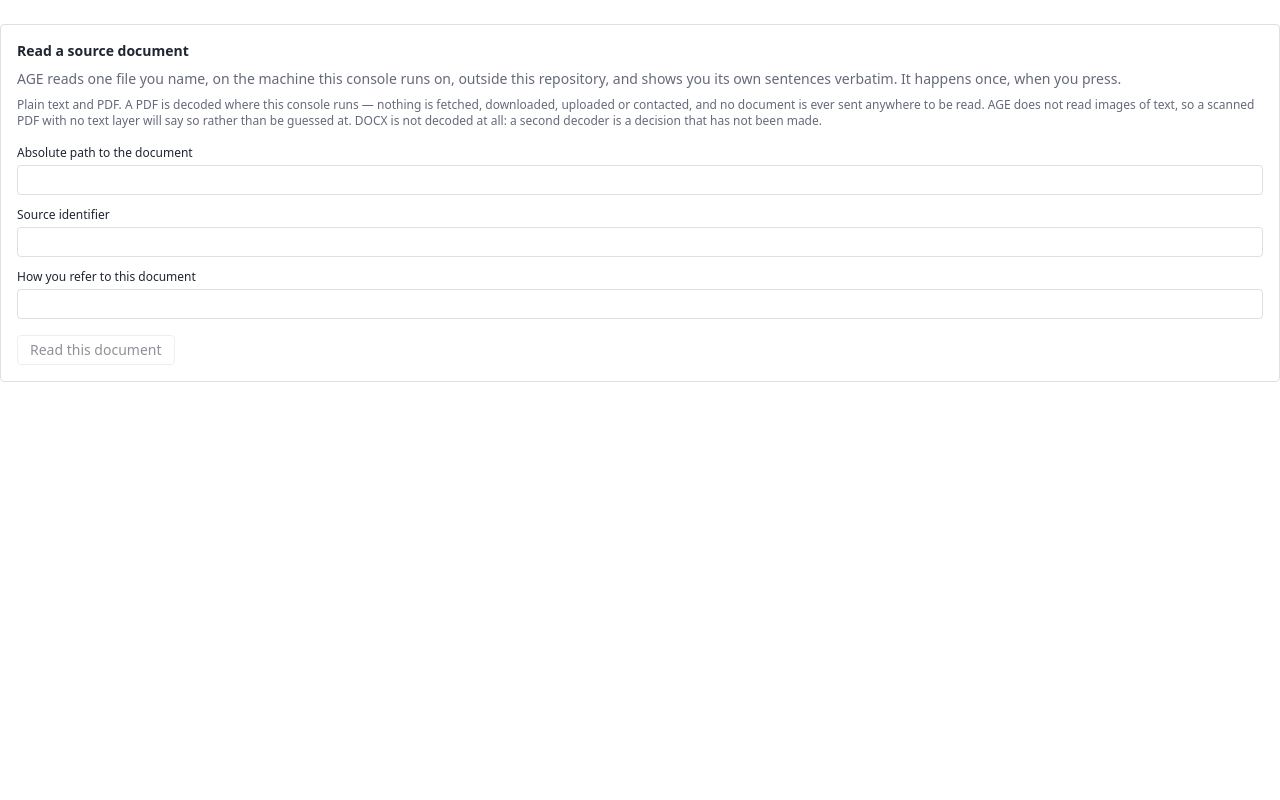
SourcesPanel › says where the confirmation went, in the outcome own words, and never that it was saved to AGE
Type "E:/fictional-operator-files/brief.txt" into the field labelled "Absolute path to the document" at (640, 180), box [17,165,1263,195]
Type "src-fictional-brief" into the field labelled "Source identifier" at (640, 242), box [17,227,1263,257]
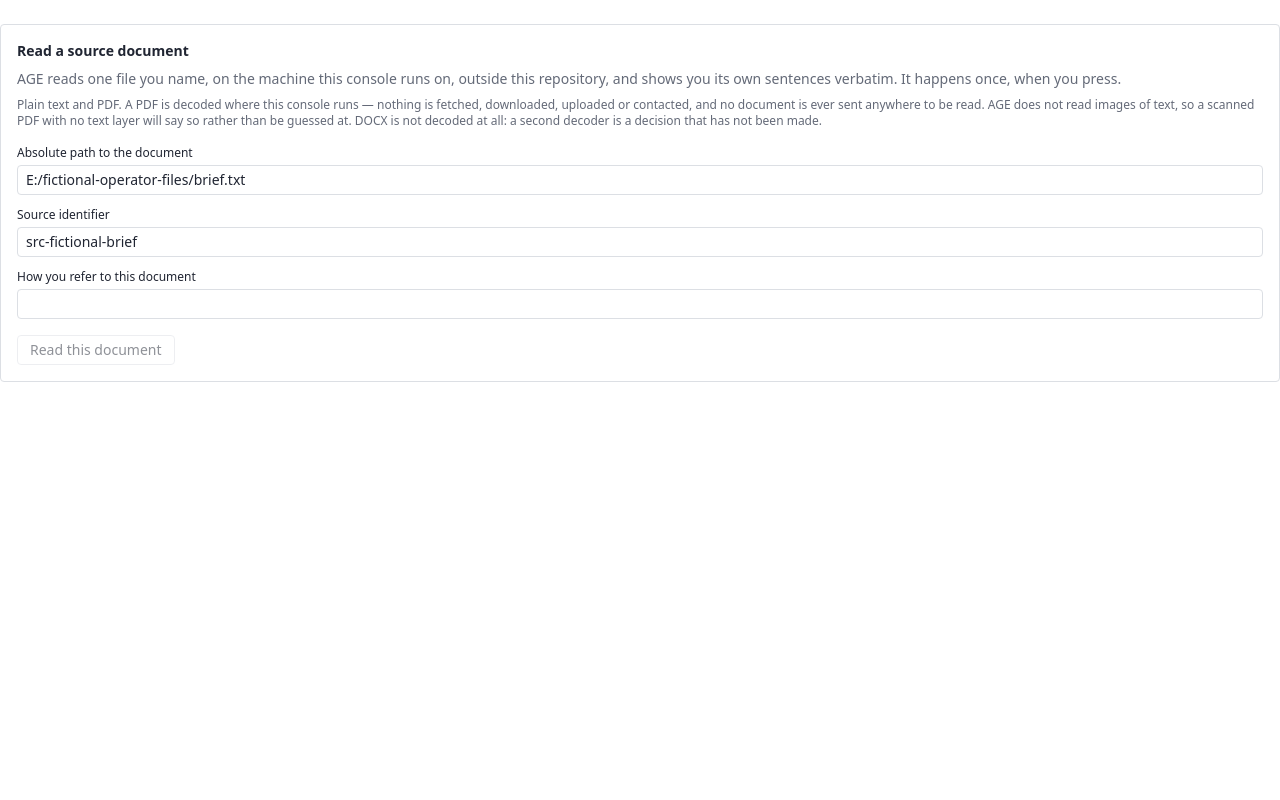
Type "Fictional Kite Repairs brief" into the field labelled "How you refer to this document" at (640, 304), box [17,289,1263,319]
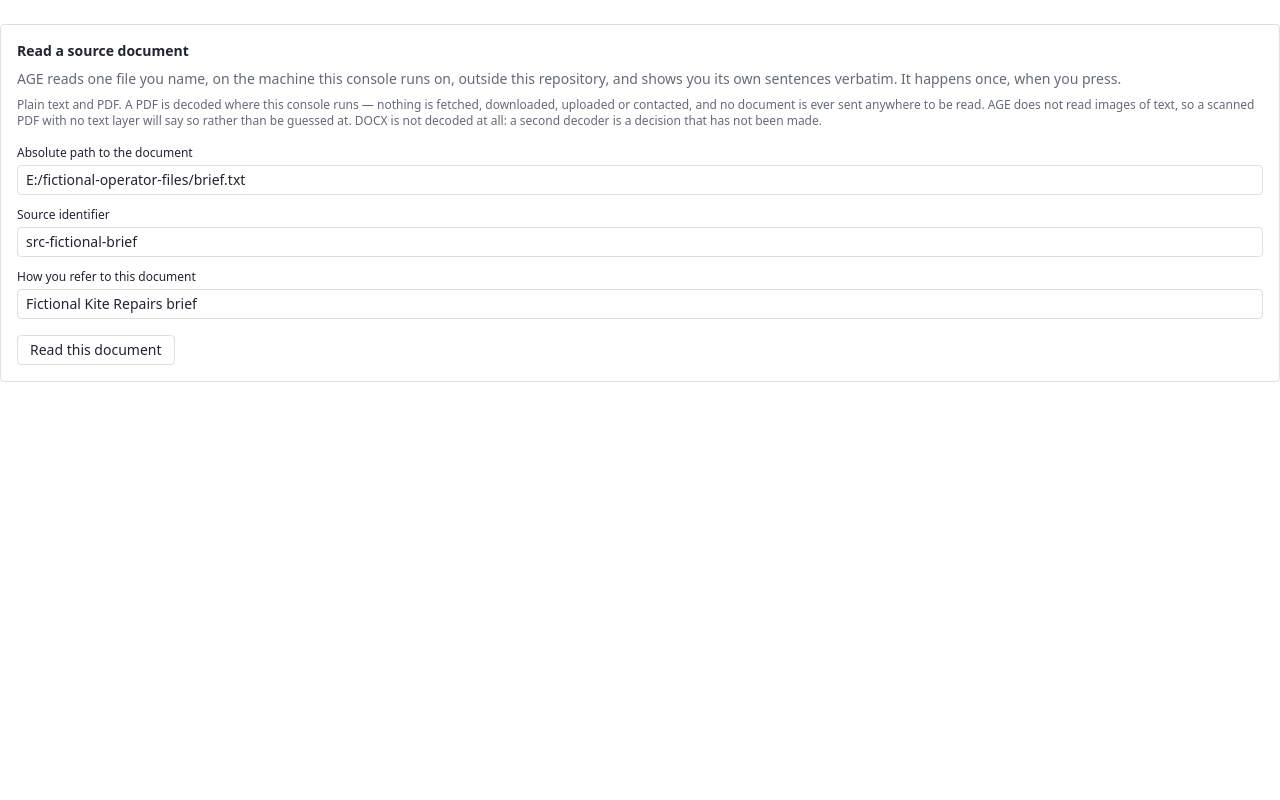
Click the button "Read this document" at (96, 350), box [17,335,174,365]
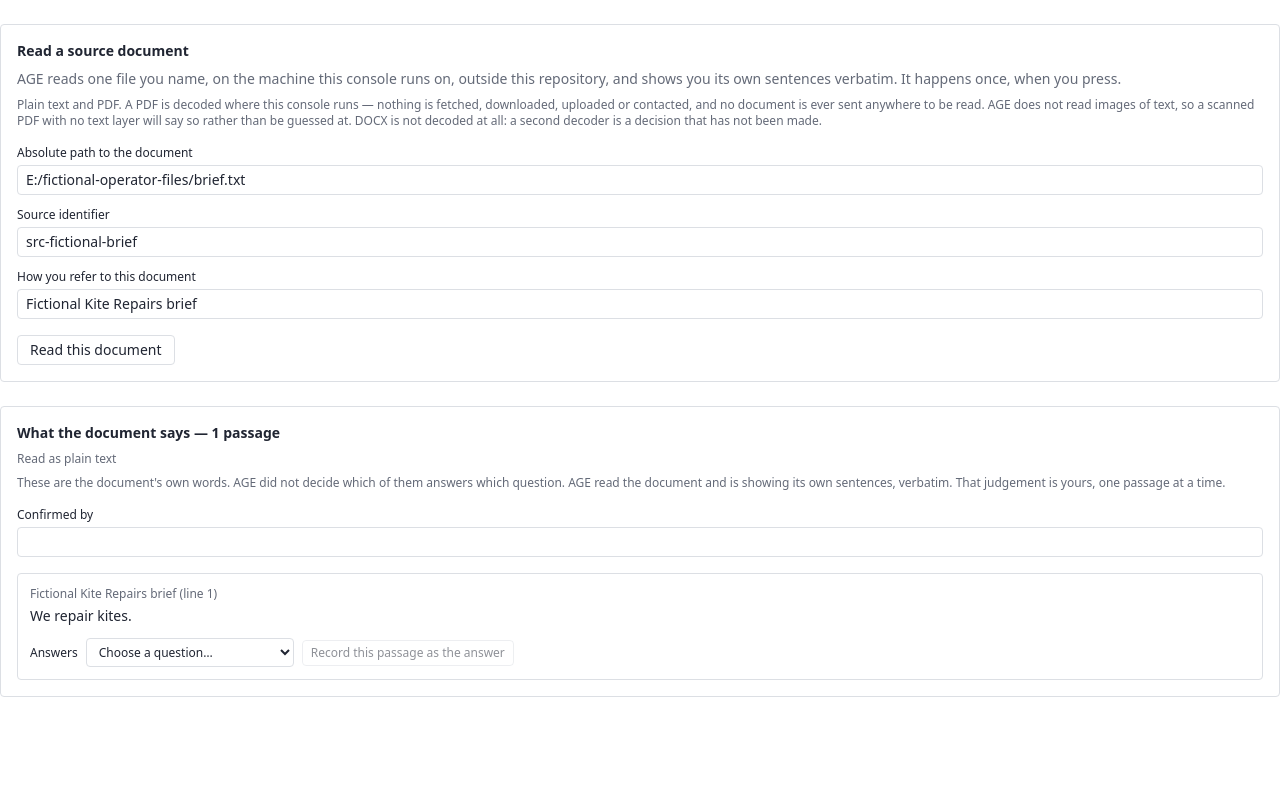
Expected: the text "We repair kites." is shown, [30,606,132,625]
Type "operator:fictional" into the field labelled "Confirmed by" at (640, 542), box [17,527,1263,557]
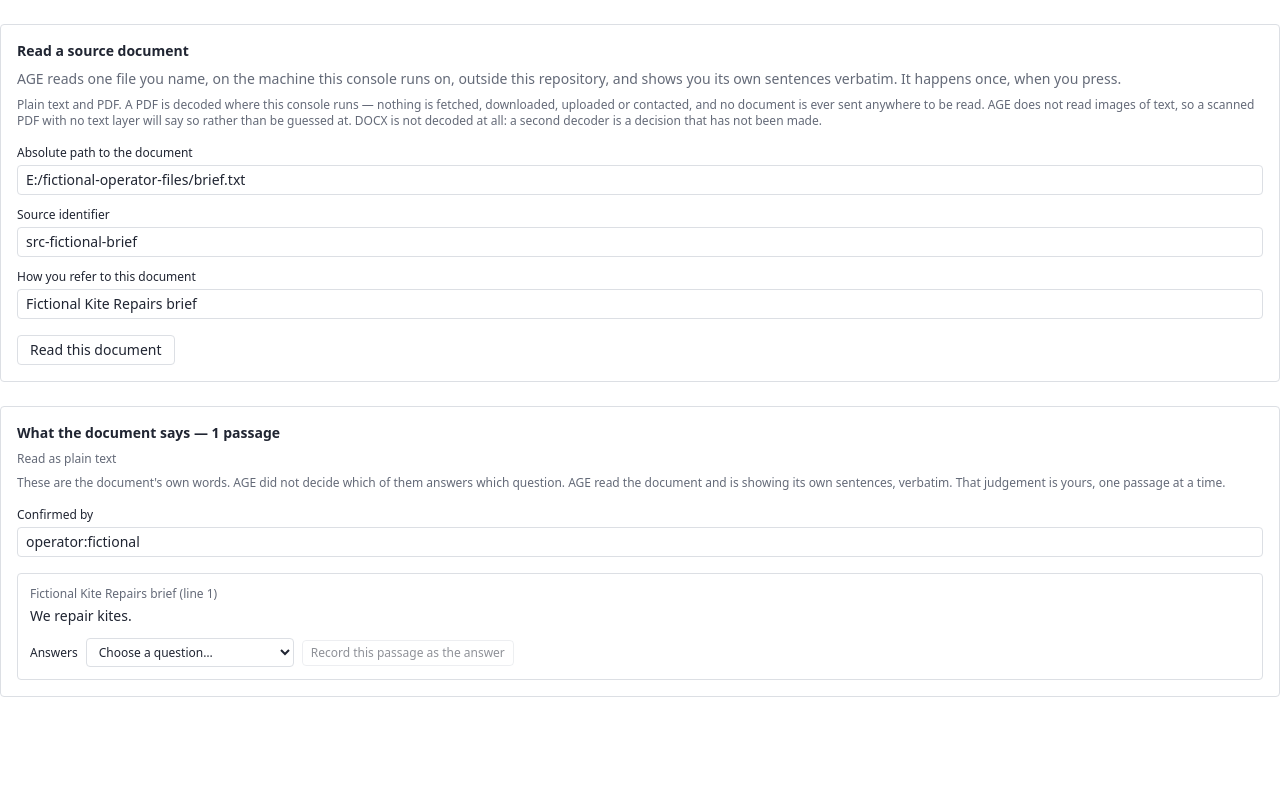
Select "What does the business offer?" in the dropdown labelled "Answers" at (190, 652), box [86,638,294,667]
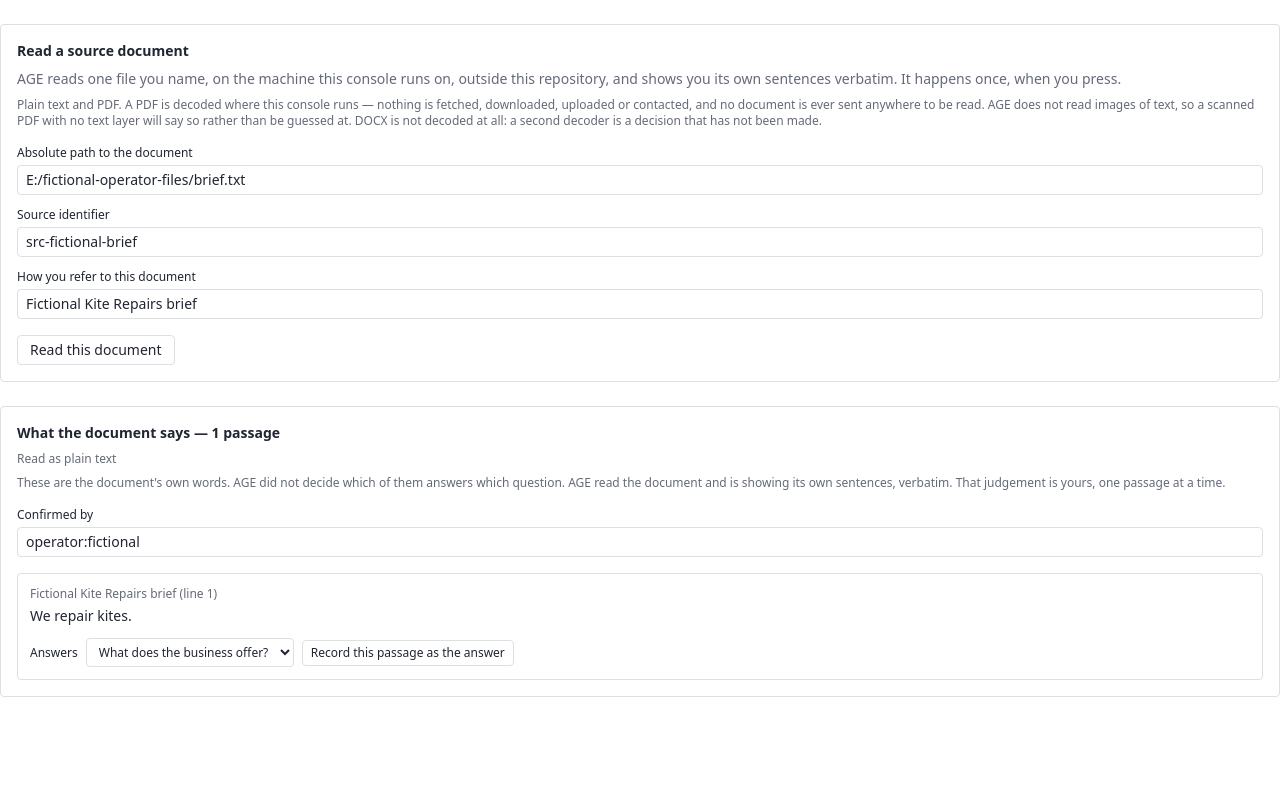
Click the button "Record this passage as the answer" at (408, 652), box [302,640,514,666]
(page scrolled)
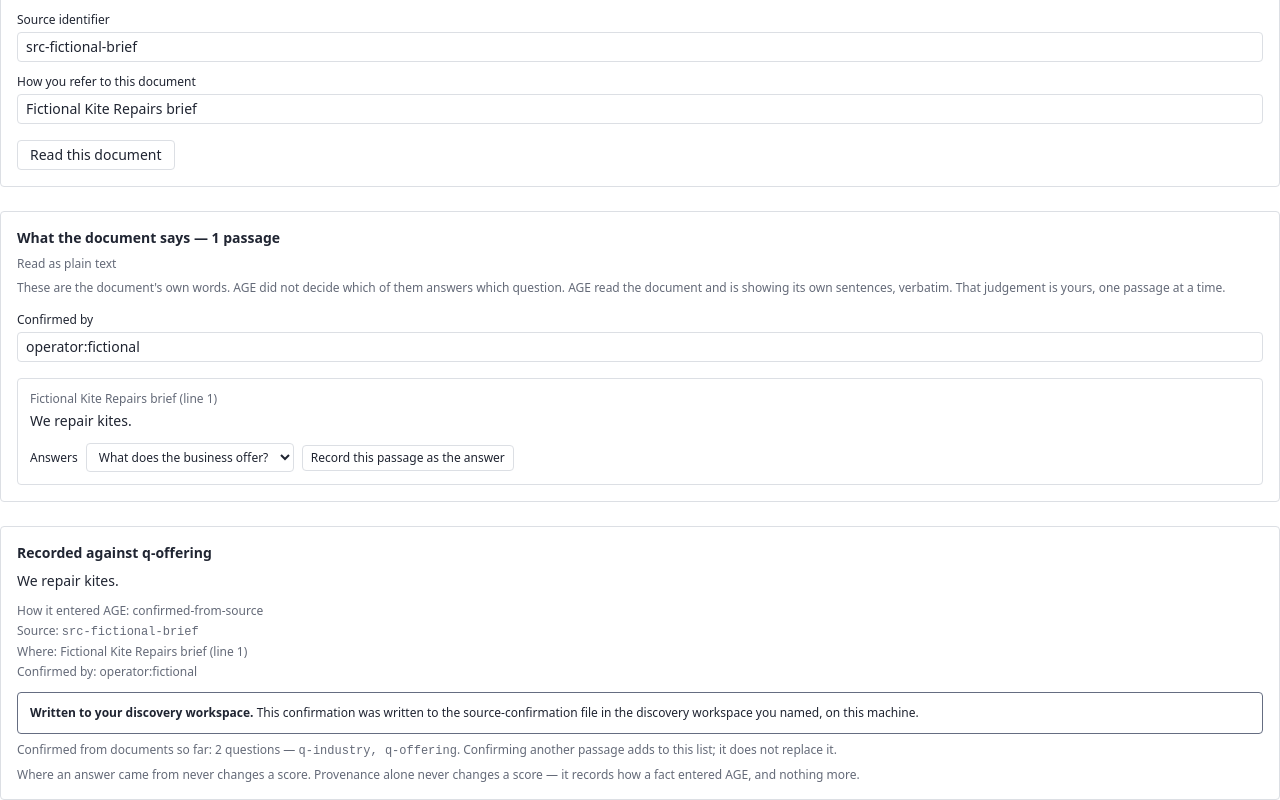
Expected: the text "Written to your discovery workspace." is shown, [30,704,257,721]
Expected: the text "on this machine." is shown, [257,704,919,721]
Expected: the text "q-industry, q-offering" is shown, [298,744,457,758]
